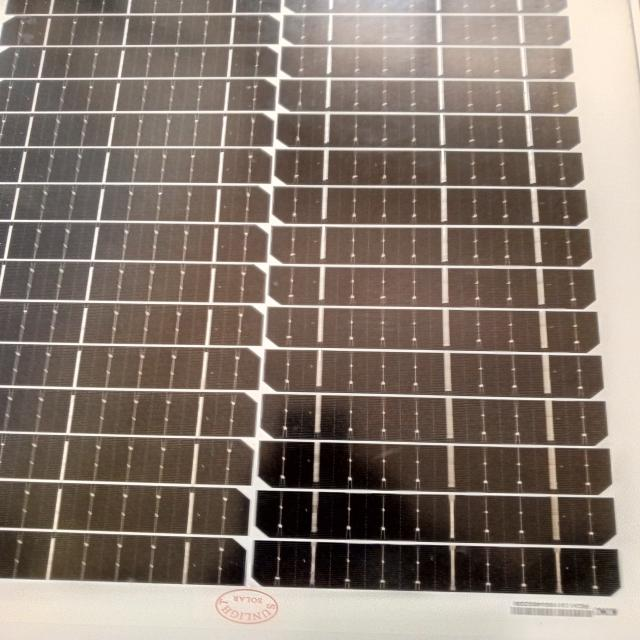Clean: (7, 0, 604, 606)
